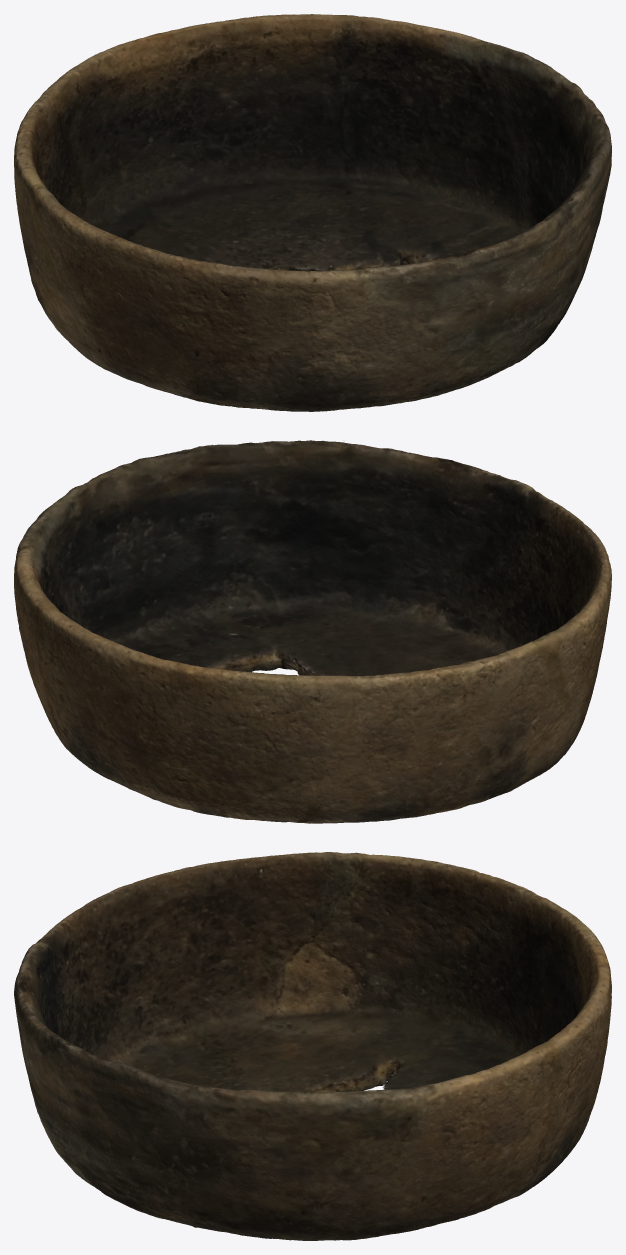
3 views of the same model, one above another, from view 1: azimuth 30°, elevation 25°; view 2: azimuth 150°, elevation 25°; view 3: azimuth 270°, elevation 25° (orthographic).
Visible parts, largest first — view 1: Mesh_0.018; view 2: Mesh_0.018; view 3: Mesh_0.018.
Part boxes in pixels (x1,y1,x2,y2): Mesh_0.018: [14, 14, 611, 411]; Mesh_0.018: [14, 440, 611, 823]; Mesh_0.018: [14, 852, 611, 1240].
Size of the model in its own units: 0.1866 by 0.0615 by 0.1855.
1 material, 1 textured.
